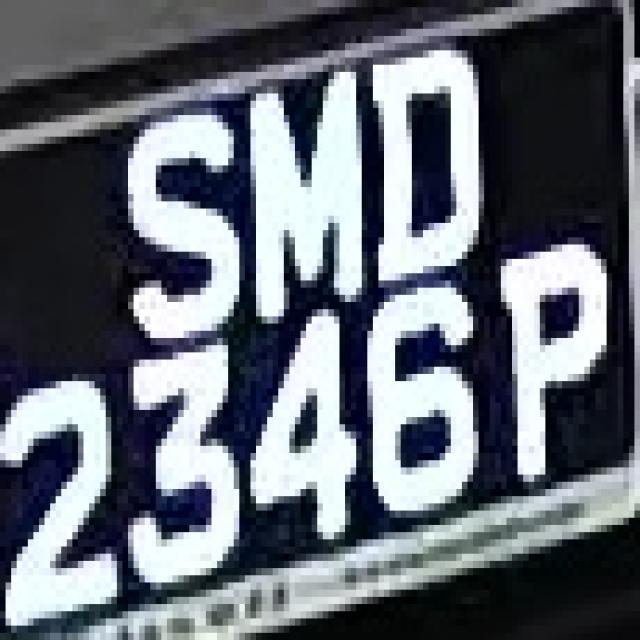2: (11, 345, 139, 633)
3: (95, 331, 228, 597)
4: (217, 309, 367, 568)
6: (367, 266, 484, 547)
D: (367, 43, 484, 309)
M: (228, 58, 373, 338)
P: (501, 237, 618, 489)
S: (106, 101, 239, 338)
